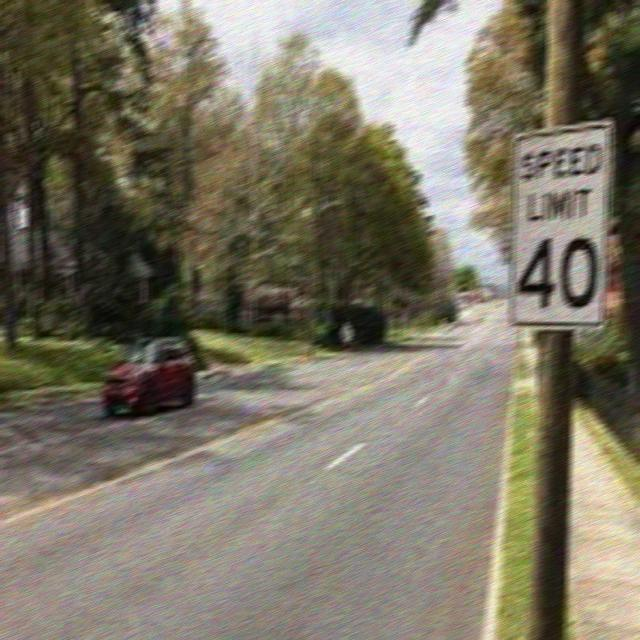speedLimit40: (512, 119, 606, 328)
